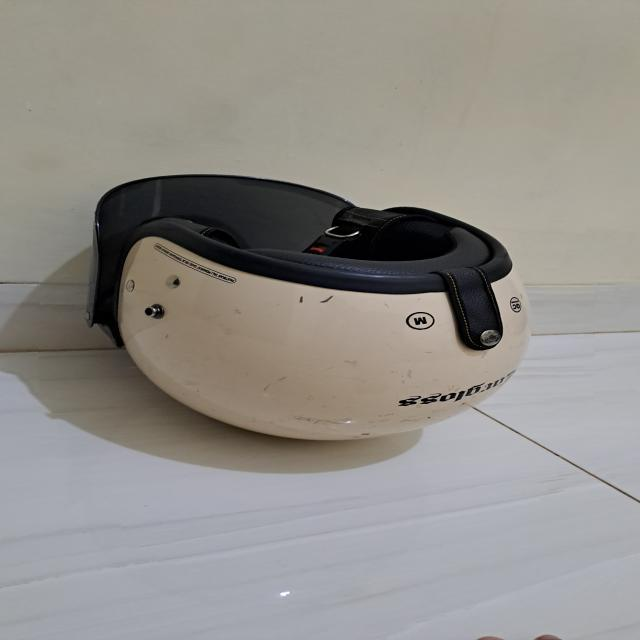Helm: (64, 163, 544, 451)
